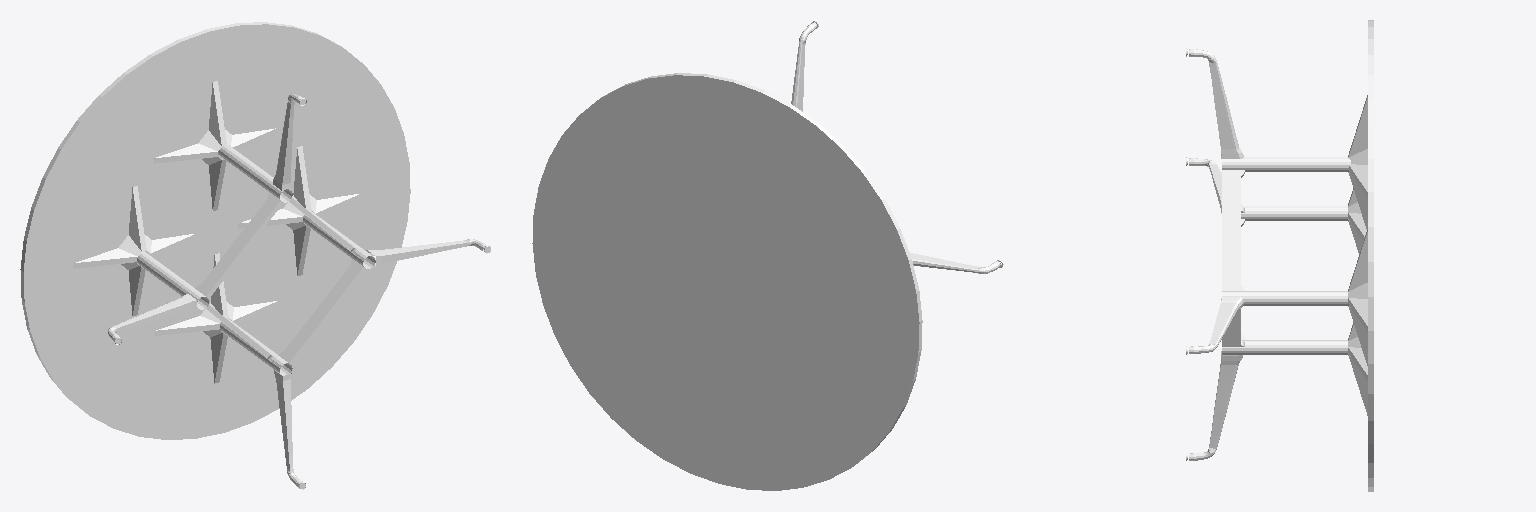
URDF robot description (test.urdf):
<?xml version="1.0" ?>
<robot name="test.urdf">
  <link name="baseLink">
    <contact>
      <lateral_friction value="1.0"/>
    </contact>
    <inertial>
      <origin rpy="0 0 0" xyz="0.00 0 0.00"/>
       <mass value="0"/>
       <inertia ixx="1" ixy="0" ixz="0" iyy="1" iyz="0" izz="1"/>
    </inertial>
    <visual>
      <origin rpy="0 0 0" xyz="0 0 0"/>
      <geometry>
				<mesh filename="model_normalized.processed.obj" scale="1 1 1"/>
      </geometry>
       <material name="white">
        <color rgba="1 1 1 1"/>
      </material>
    </visual>
    <collision>
      <origin rpy="0 0 0" xyz="0 0 0"/>
      <geometry>
	 	<mesh filename="model_normalized_convex.obj" scale="1 1 1"/>
      </geometry>
    </collision>
  </link>
</robot>

--- Render facts (derived) ---
3 views of the same robot in one strip: view 1: azimuth 30°, elevation 25°; view 2: azimuth 150°, elevation 25°; view 3: azimuth 270°, elevation 25° (orthographic).
Model test.urdf with 1 links and 0 joints (none), rooted at baseLink, posed all joints at 0.
Links seen in each view (by area): view 1: baseLink; view 2: baseLink; view 3: baseLink.
Link boxes in pixels (left/top/right/bottom): baseLink: left=20, top=22, right=490, bottom=489; baseLink: left=532, top=21, right=1003, bottom=490; baseLink: left=1186, top=20, right=1373, bottom=491.
Size in the robot's own frame: 0.6805 by 0.272 by 0.6805 metres.
1 mesh visuals loaded from 1 distinct referenced files (1 OBJ).